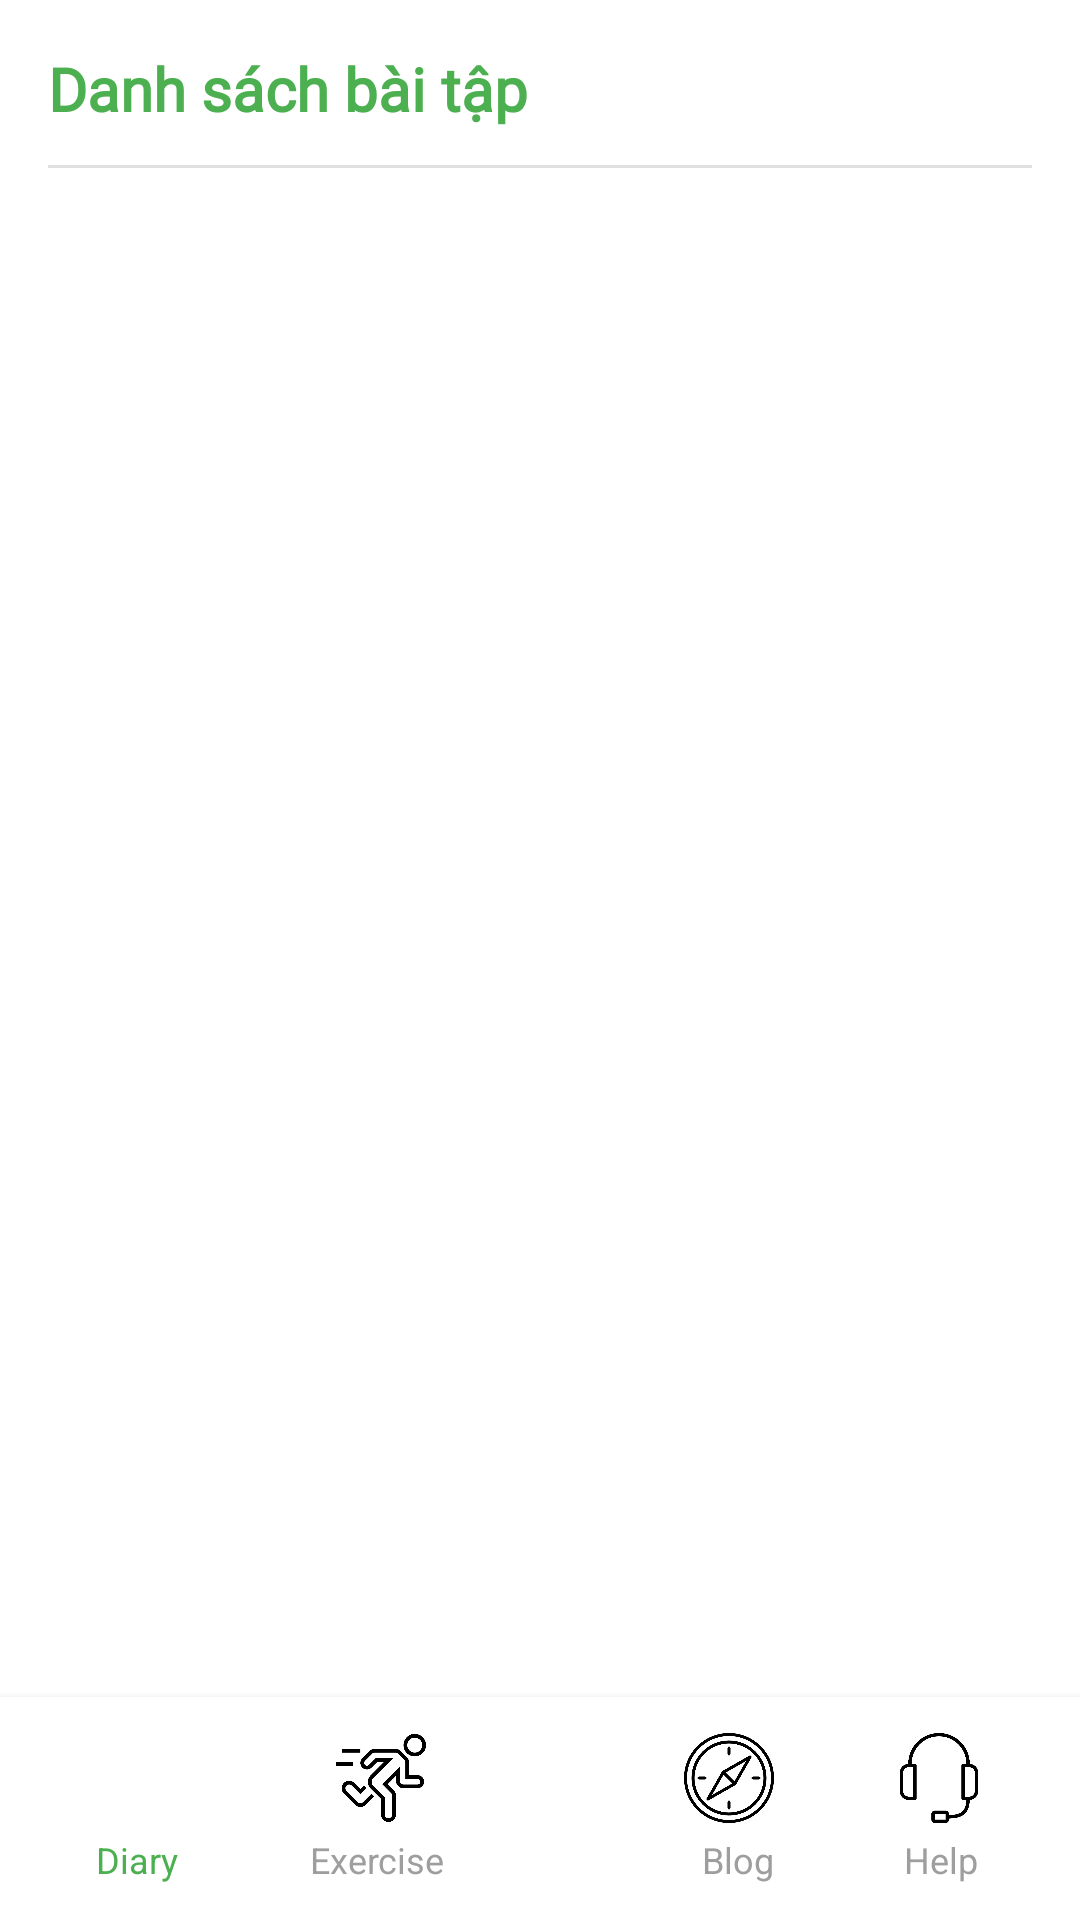

Icon click points for this 1080px×1920px phone screenshot, format (x=x, y=y):
compass: (x=729, y=1778)
headphones: (x=939, y=1778)
running: (x=381, y=1778)
